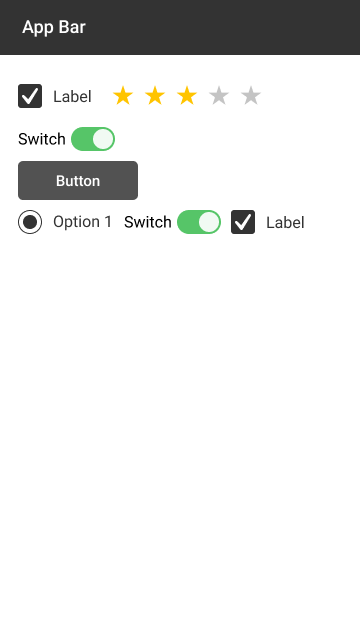button: (16, 160, 141, 202)
checkBox: (15, 81, 95, 111), (230, 210, 304, 234)
radioButton: (16, 208, 113, 236)
ratingBar: (112, 83, 265, 109)
switch: (16, 123, 118, 157), (122, 206, 224, 237)
toolbar: (2, 1, 360, 56)
